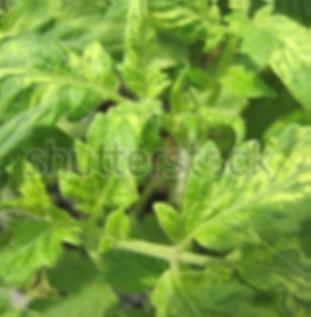Tomato leaf mosaic virus: (174, 114, 311, 246), (59, 96, 165, 221), (0, 19, 118, 127), (230, 7, 311, 127), (146, 265, 283, 317), (118, 0, 175, 109), (0, 207, 79, 285)
